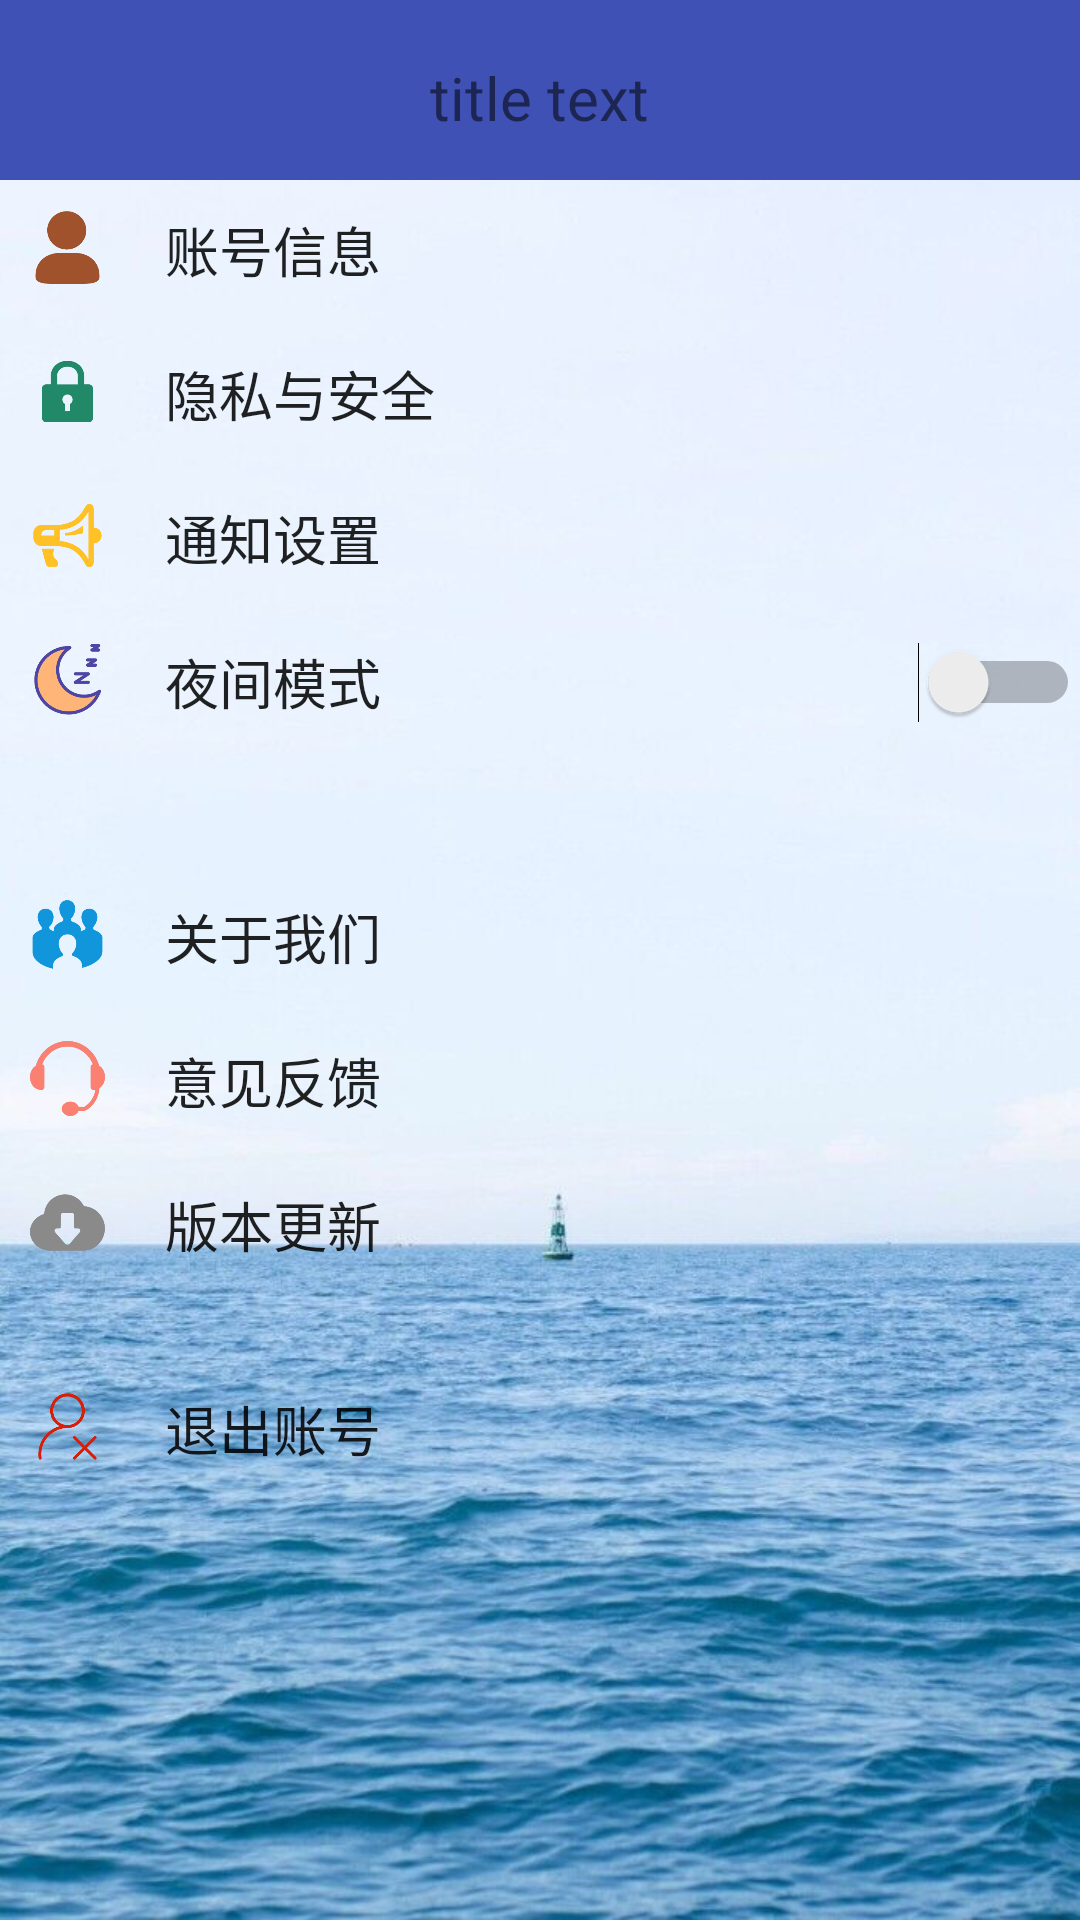

Icons on this 1080w x 1920h Android screen, each with its box as {"x1": x1, "y1": y1, "x2": x2, "y2": y2}:
fankui: {"x1": 30, "y1": 1041, "x2": 105, "y2": 1116}
information: {"x1": 35, "y1": 211, "x2": 100, "y2": 284}
out: {"x1": 30, "y1": 1389, "x2": 105, "y2": 1464}
secre: {"x1": 42, "y1": 361, "x2": 93, "y2": 422}
